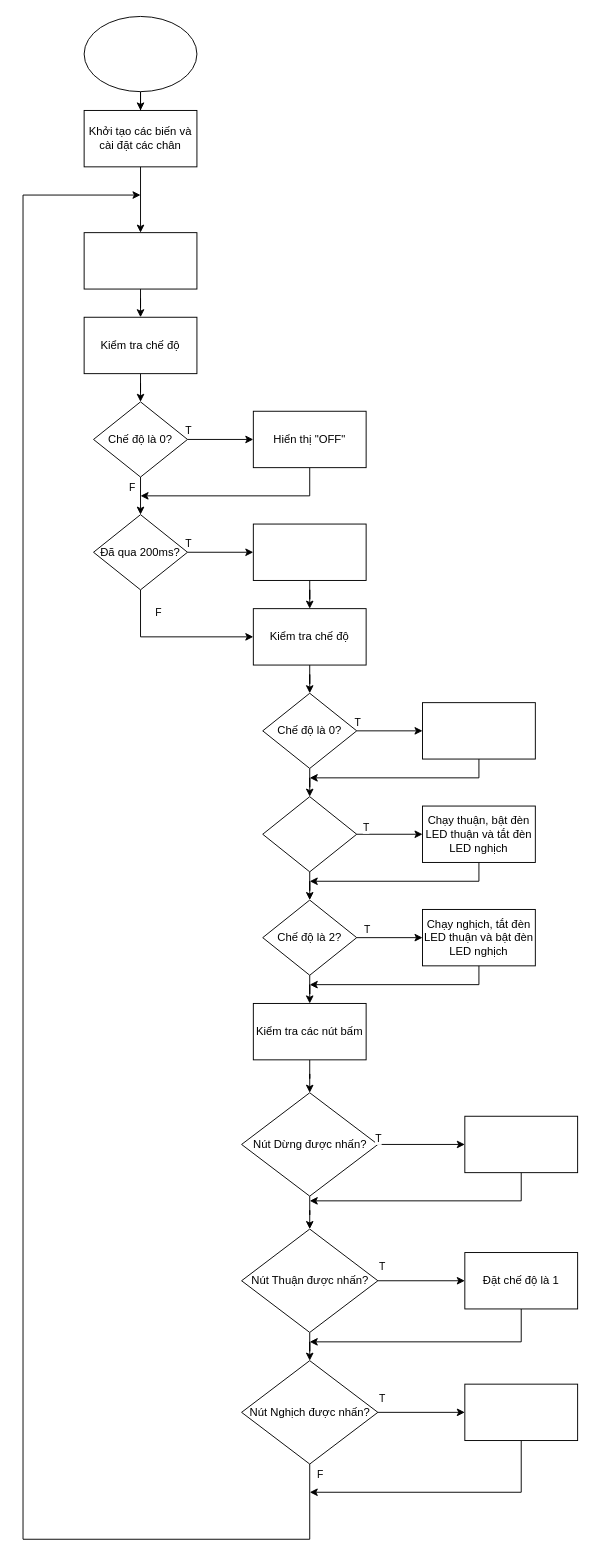
Image size: 594x1563. Some labels were removed from this diagram. Here are the shapes that lost their labels. From the top down, the centre of each, then its label:
At (140,54): "Bắt đầu".
At (140,260): "Hiển thị tần số".
At (309,551): "Đọc giá trị analog và tính tần số".
At (478,730): "Dừng biến tần, tắt đèn LED thuận và nghịch".
At (309,834): "Chế độ là 1?".
At (521,1144): "Đặt chế độ là 0".
At (521,1412): "Đặt chế độ là 2".
